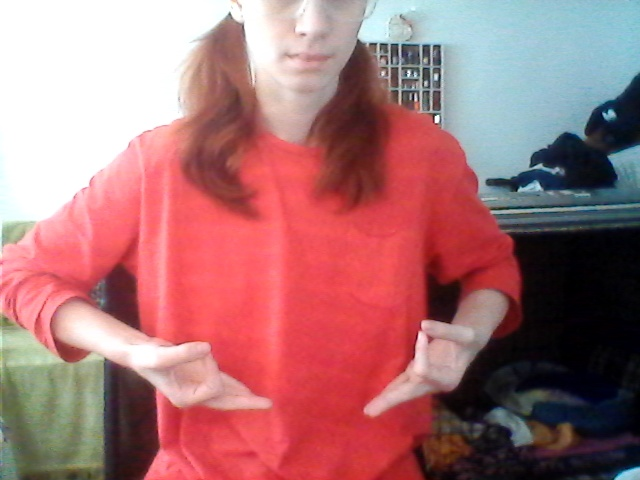preco: (132, 301, 485, 426)
